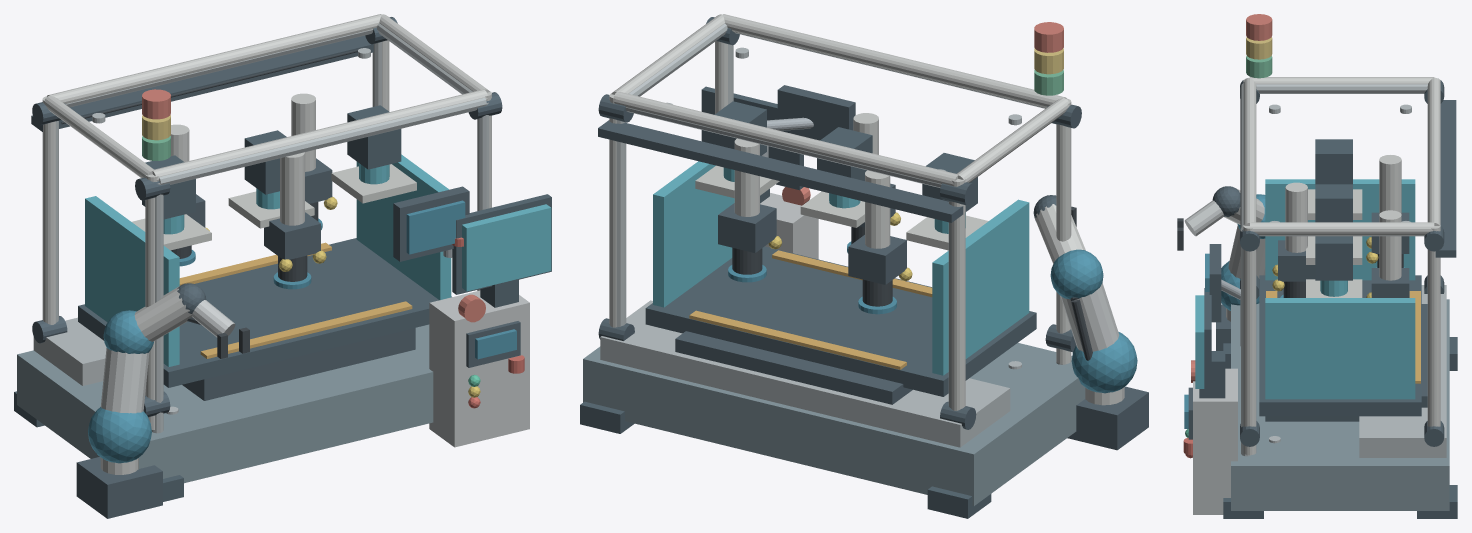
File: validator.glb
3 views of the same model, side by side, from view 1: azimuth 30°, elevation 25°; view 2: azimuth 150°, elevation 25°; view 3: azimuth 270°, elevation 25° (orthographic). The views are drawn at different scales.
Visible parts, largest first — view 1: fabricated_base, inspection_stage, v9_30, lightbar_-2.25, operator_hmi_screen, v9_59, lightbar_2.25, v9_24, v9_20, v9_37, toprail_1.5, v9_21 (+39 smaller); view 2: fabricated_base, inspection_stage, control_plinth, lightbar_-2.25, lightbar_2.25, v9_24, v9_59, v9_21, v9_20, v9_37, v9_0, v9_56 (+36 smaller); view 3: fabricated_base, lightbar_2.25, v9_30, inspection_stage, control_plinth, lightbar_-2.25, v9_15, v9_24, v9_23, v9_10, v9_21, v9_20 (+39 smaller).
Part boxes in pixels (box(x1,y1,x2,y2)): fabricated_base: box(17, 324, 433, 483); inspection_stage: box(78, 238, 451, 387); v9_30: box(429, 290, 529, 447); lightbar_-2.25: box(85, 196, 179, 366); operator_hmi_screen: box(462, 204, 551, 291); v9_59: box(182, 328, 415, 400); lightbar_2.25: box(356, 154, 451, 300); v9_24: box(31, 35, 373, 131); v9_20: box(47, 14, 381, 103); v9_37: box(76, 457, 162, 518); toprail_1.5: box(159, 97, 486, 184); v9_21: box(152, 89, 487, 181); fabricated_base: box(583, 343, 1085, 506); inspection_stage: box(645, 246, 1036, 396); control_plinth: box(600, 300, 1010, 447); lightbar_-2.25: box(932, 199, 1029, 375); lightbar_2.25: box(653, 161, 734, 307); v9_24: box(598, 120, 963, 222); v9_59: box(675, 331, 912, 404); v9_21: box(722, 14, 1066, 107); v9_20: box(613, 92, 957, 185); v9_37: box(1067, 386, 1148, 450); v9_0: box(951, 179, 965, 410); v9_56: box(777, 85, 855, 140); fabricated_base: box(1231, 299, 1449, 510); lightbar_2.25: box(1265, 298, 1415, 399); v9_30: box(1193, 368, 1237, 514); inspection_stage: box(1259, 275, 1421, 416); control_plinth: box(1359, 285, 1446, 457); lightbar_-2.25: box(1265, 179, 1415, 280); v9_15: box(1243, 225, 1256, 455); v9_24: box(1435, 100, 1456, 257); v9_23: box(1250, 222, 1434, 235); v9_10: box(1427, 225, 1440, 426); v9_21: box(1243, 77, 1256, 225); v9_20: box(1427, 77, 1440, 225).
Size of the model in its own units: 7.25 by 6.15 by 4.48.
